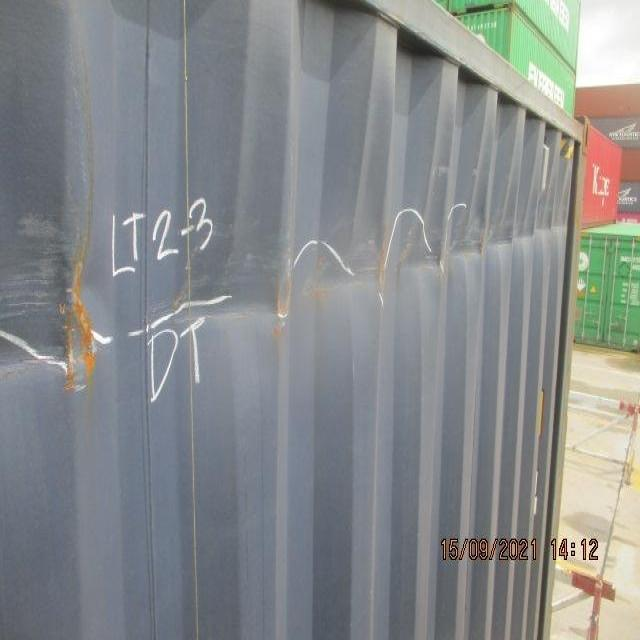dent: (52, 153, 574, 409)
